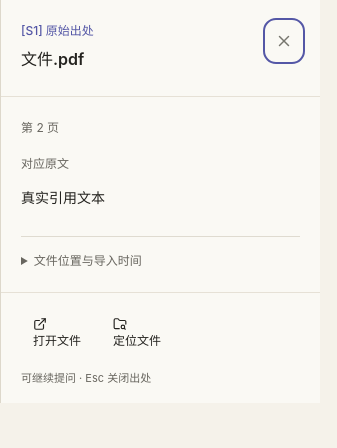
shows source open failures and tries the managed copy
The image size is (337, 448).
Click the button "打开文件": (57,333) [21,309,93,358]
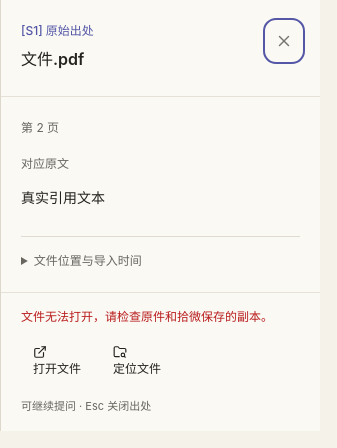
Now the message "文件无法打开，请检查原件和拾微保存的副本。" is shown, box [21,309,300,325]
